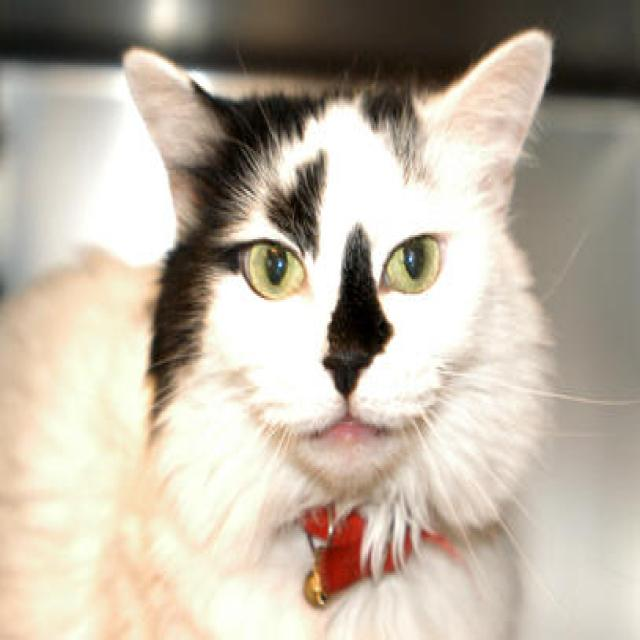Cat: (0, 25, 638, 637)
